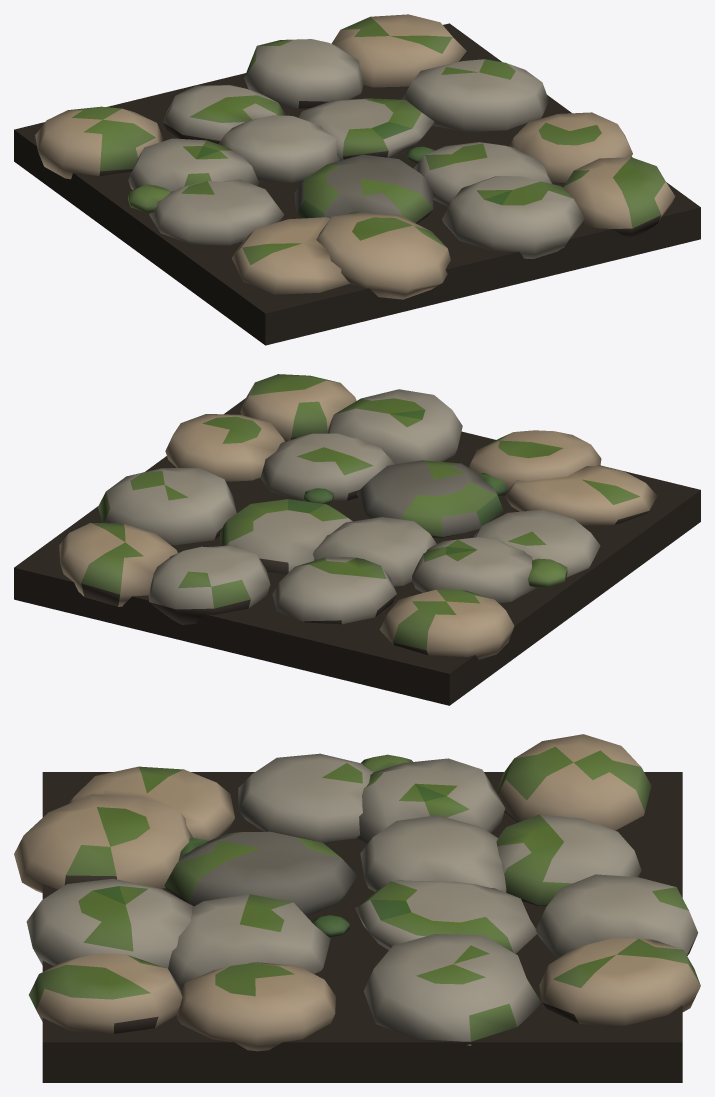
Rendered from kit_floor5.glb.
3 views of the same model, one above another, from view 1: azimuth 30°, elevation 25°; view 2: azimuth 150°, elevation 25°; view 3: azimuth 270°, elevation 25° (orthographic). The views are drawn at different scales.
Visible parts, largest first — view 1: kit_floor5; view 2: kit_floor5; view 3: kit_floor5.
Part boxes in pixels (x1,y1,x2,y2): kit_floor5: (14, 14, 700, 345); kit_floor5: (14, 374, 700, 705); kit_floor5: (14, 734, 700, 1082).
Bounding box in the file's own units: 1.05 × 0.1403 × 1.07.
